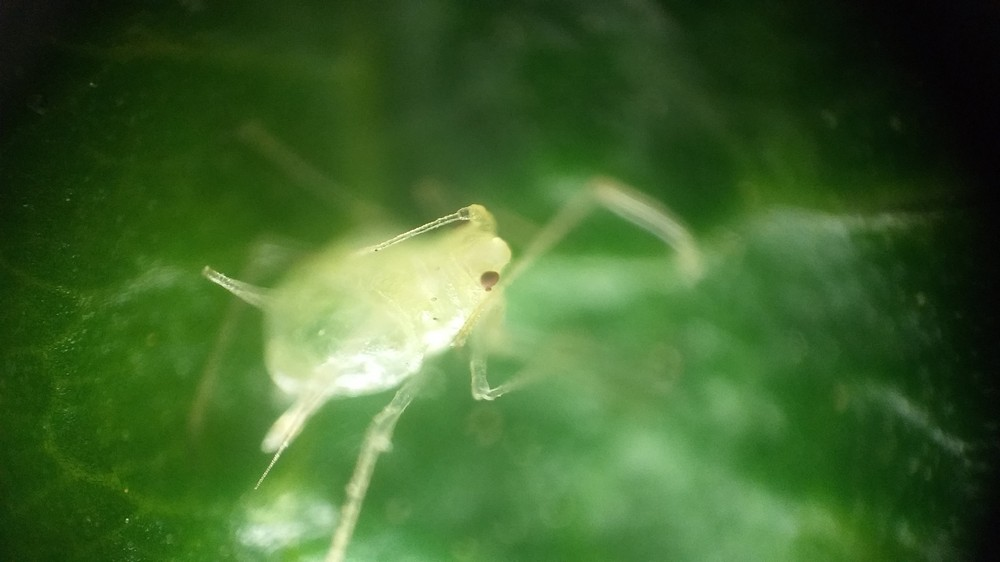Pulgon: (191, 120, 724, 493)
